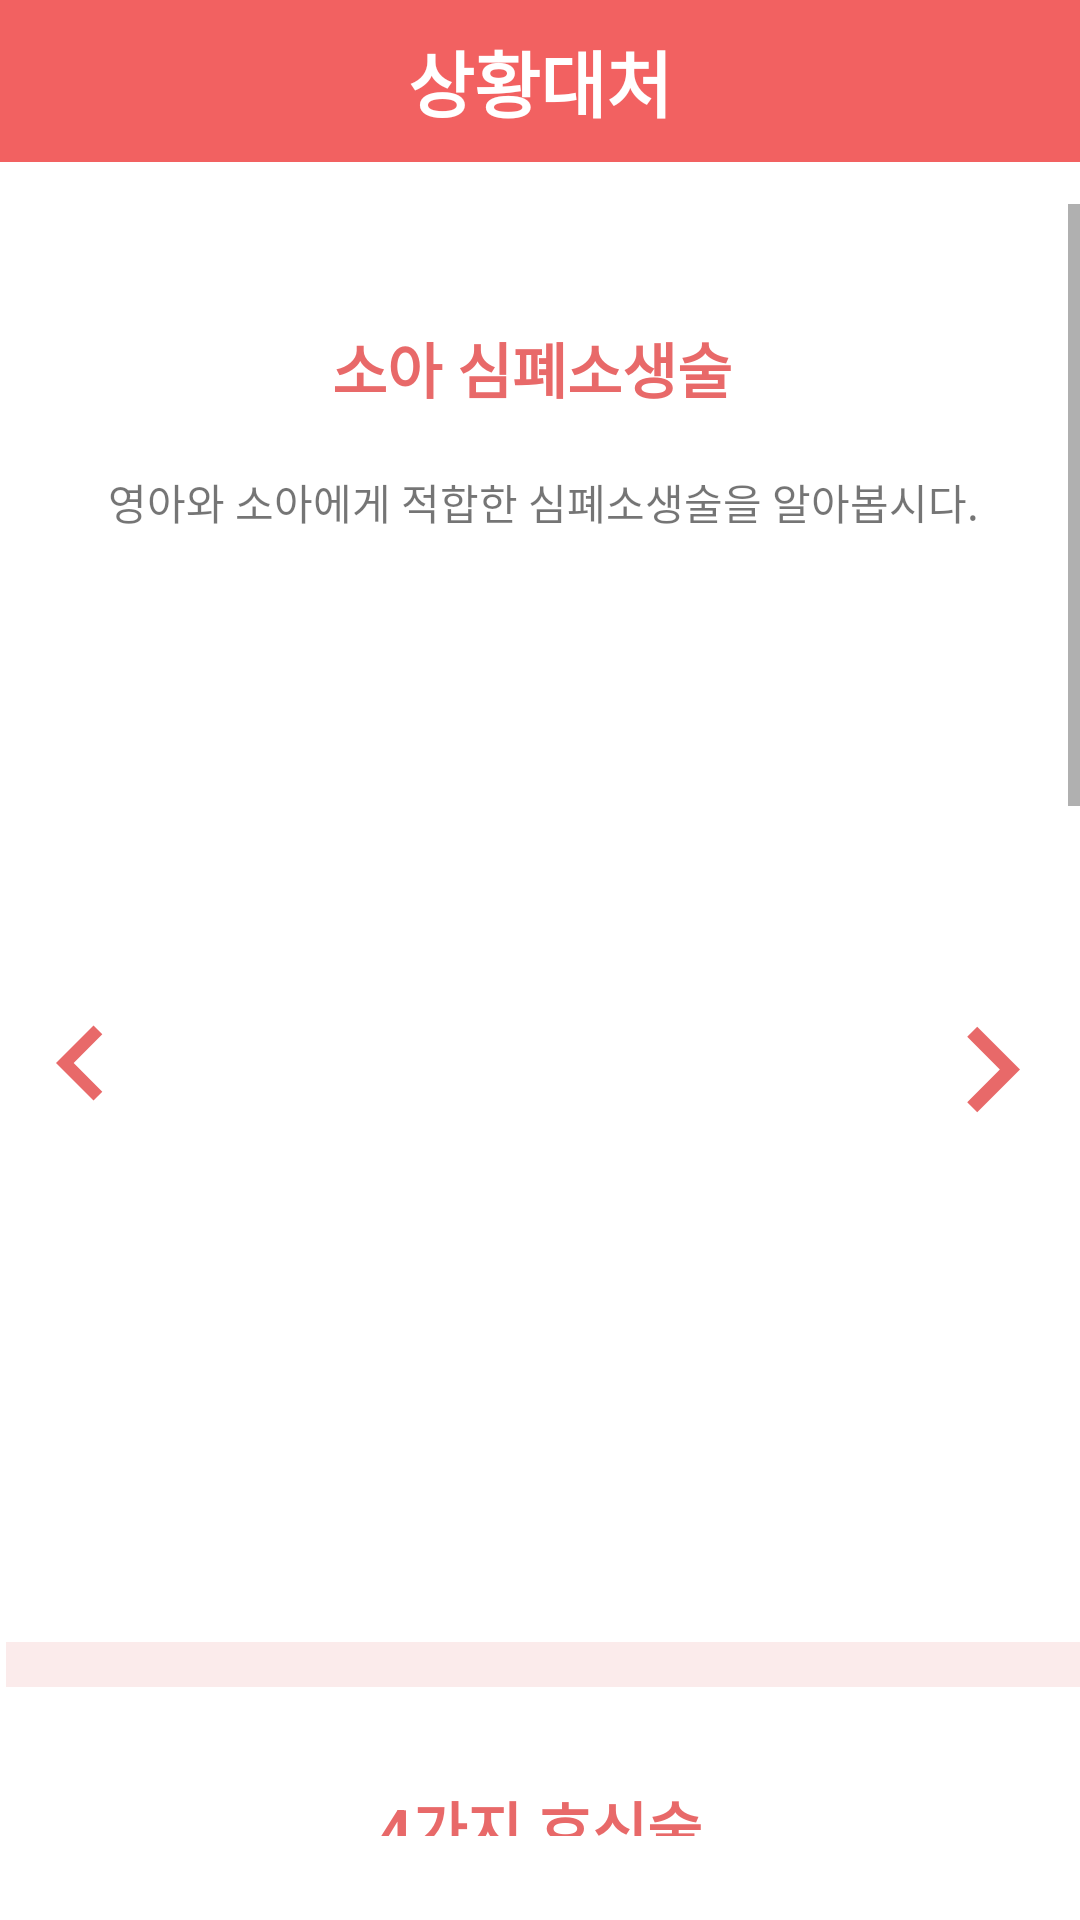

Locate icon controls on the screen. Image size 1080×1920, boxes as box(x1, y1, x2, y2).
left arrow: box(56, 1025, 102, 1101)
